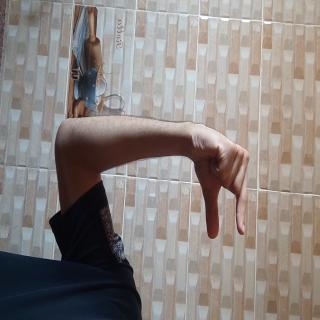DELL: (88, 90, 184, 190)
